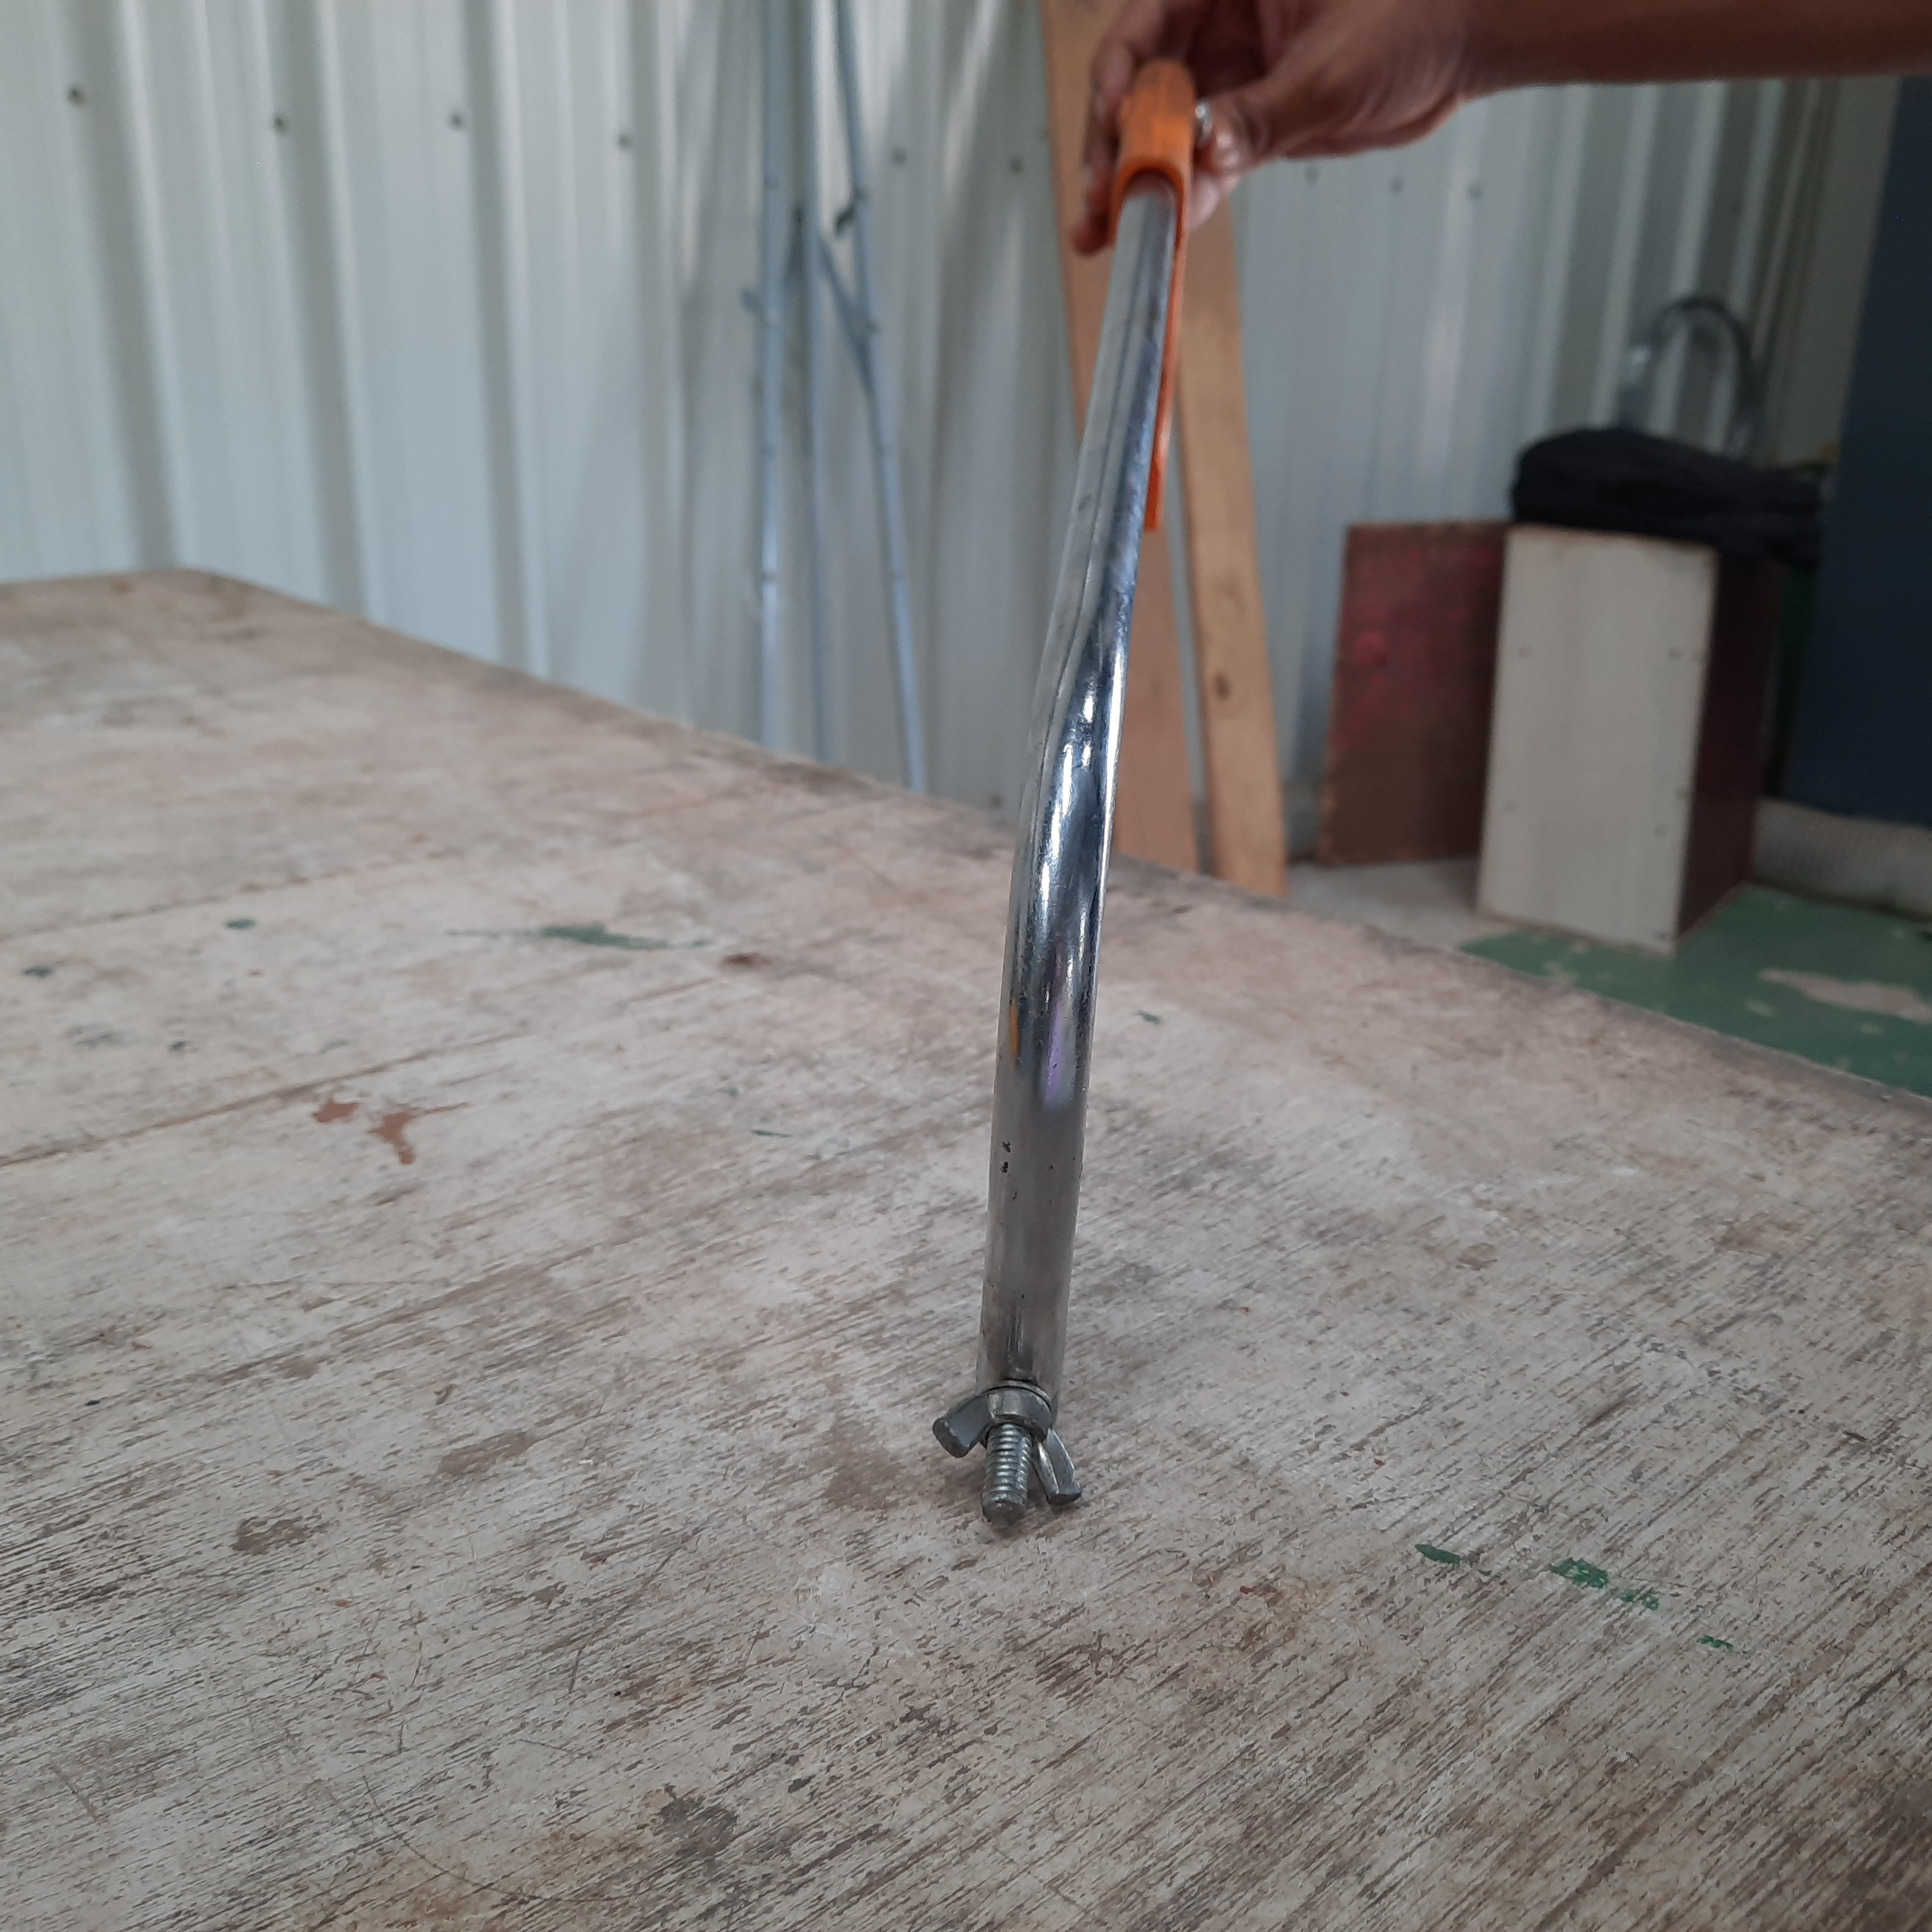Hexaframe: (883, 85, 1265, 1663)
